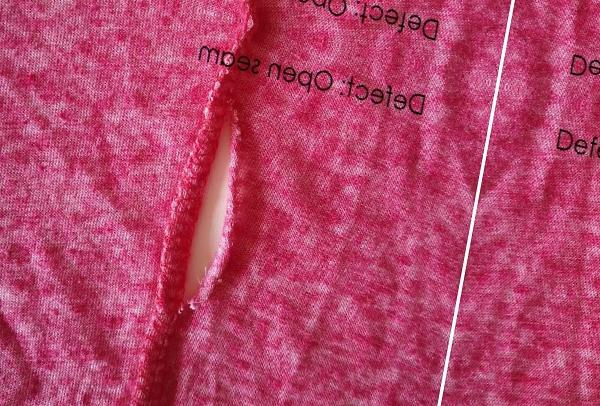hole: (170, 88, 255, 321)
